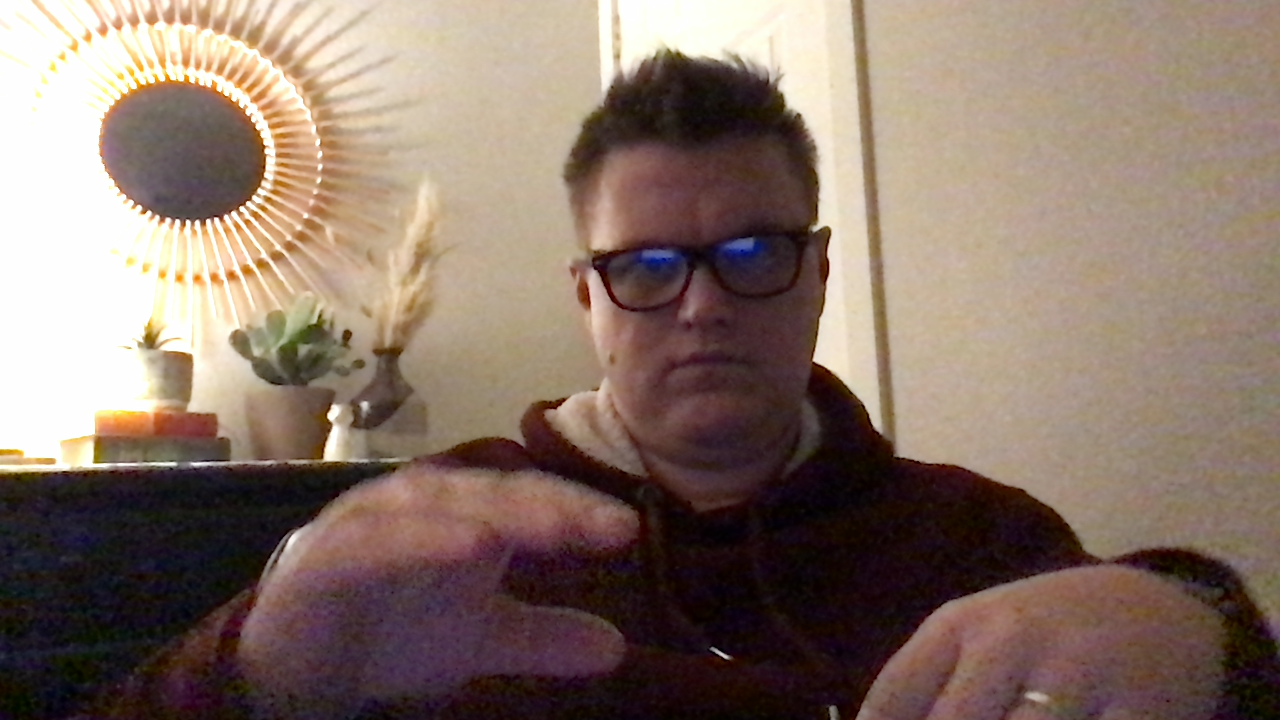no: (237, 454, 646, 720)
